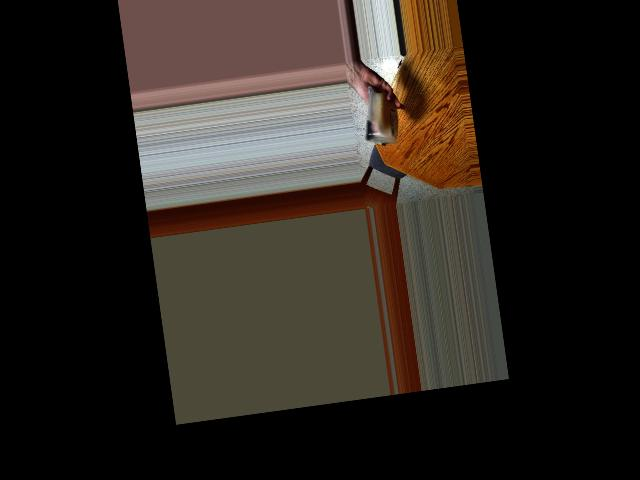cheese: (364, 93, 400, 143)
